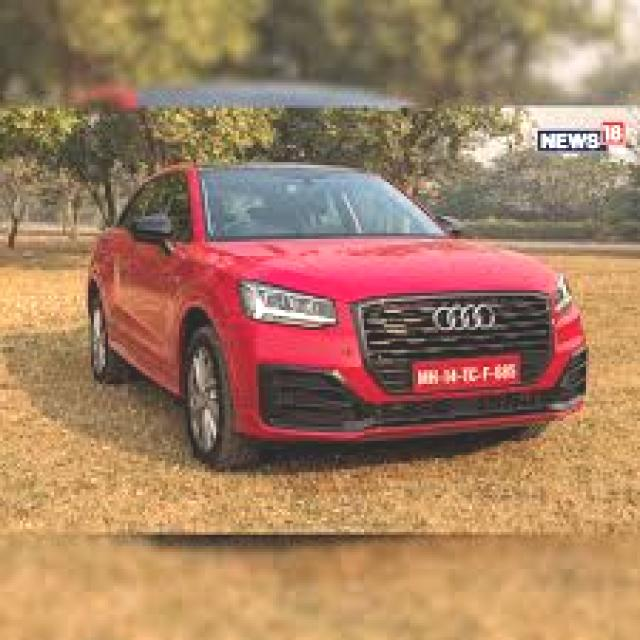SUV: (82, 156, 589, 470)
